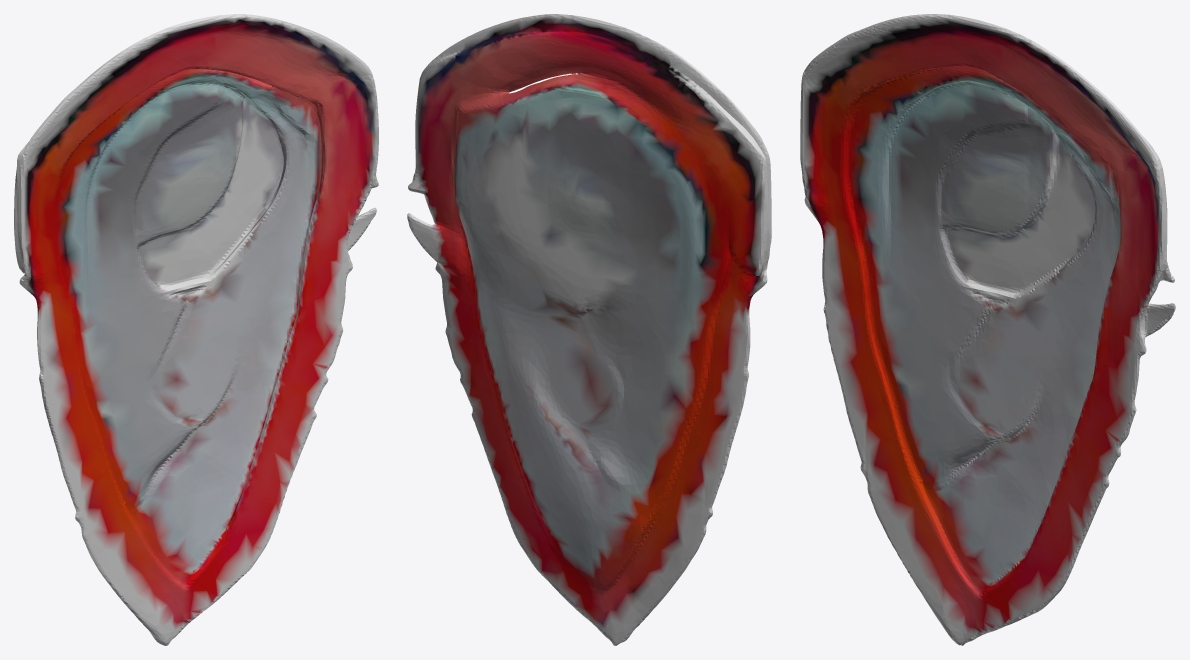
Rendered from kite_shield.glb.
The picture shows the model from 3 angles, left to right: view 1: azimuth 30°, elevation 25°; view 2: azimuth 150°, elevation 25°; view 3: azimuth 330°, elevation 25°; orthographic projection. The views are drawn at different scales.
Visible parts, largest first — view 1: geometry_0; view 2: geometry_0; view 3: geometry_0.
Boxes of the visible parts, left/top/right/bottom form: geometry_0: left=14, top=14, right=378, bottom=645; geometry_0: left=407, top=14, right=771, bottom=645; geometry_0: left=800, top=14, right=1175, bottom=645.
Size of the model in its own units: 0.4688 by 0.768 by 0.0434.
